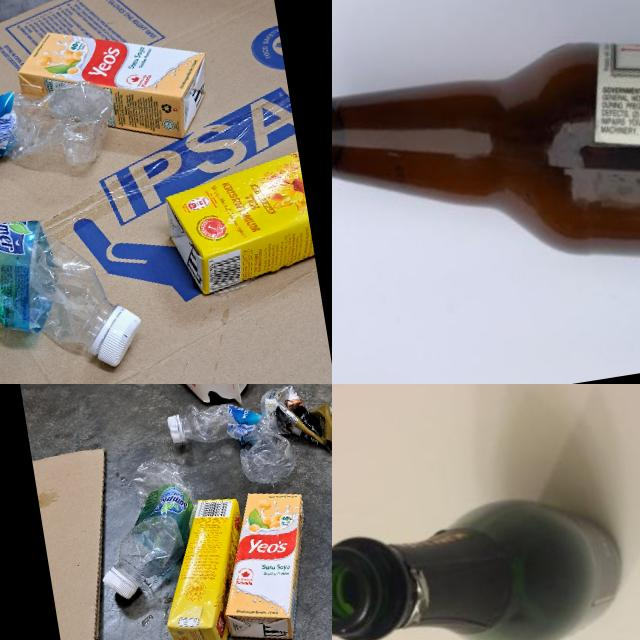caixinha: (11, 8, 218, 162), (160, 148, 318, 300), (206, 486, 324, 640), (148, 494, 261, 640), (117, 384, 251, 419)
garrafa de vidro: (332, 0, 640, 358), (332, 484, 635, 640)
garrafa plástica: (0, 204, 123, 384), (0, 75, 124, 202), (100, 456, 204, 590), (176, 390, 300, 497)
lata: (257, 384, 332, 461)
papelão: (0, 0, 332, 384), (31, 445, 161, 640)
tampa plástica: (99, 567, 136, 603), (166, 415, 182, 445)
